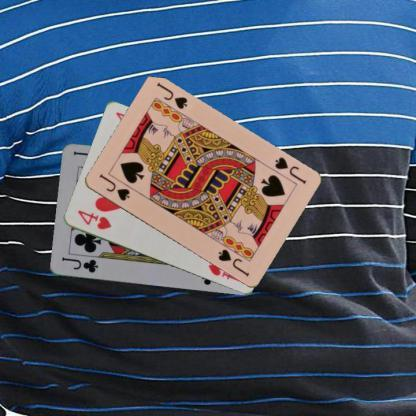4h: (74, 208, 112, 231)
Jc: (59, 254, 99, 274)
Js: (272, 154, 308, 186), (96, 171, 131, 202)
